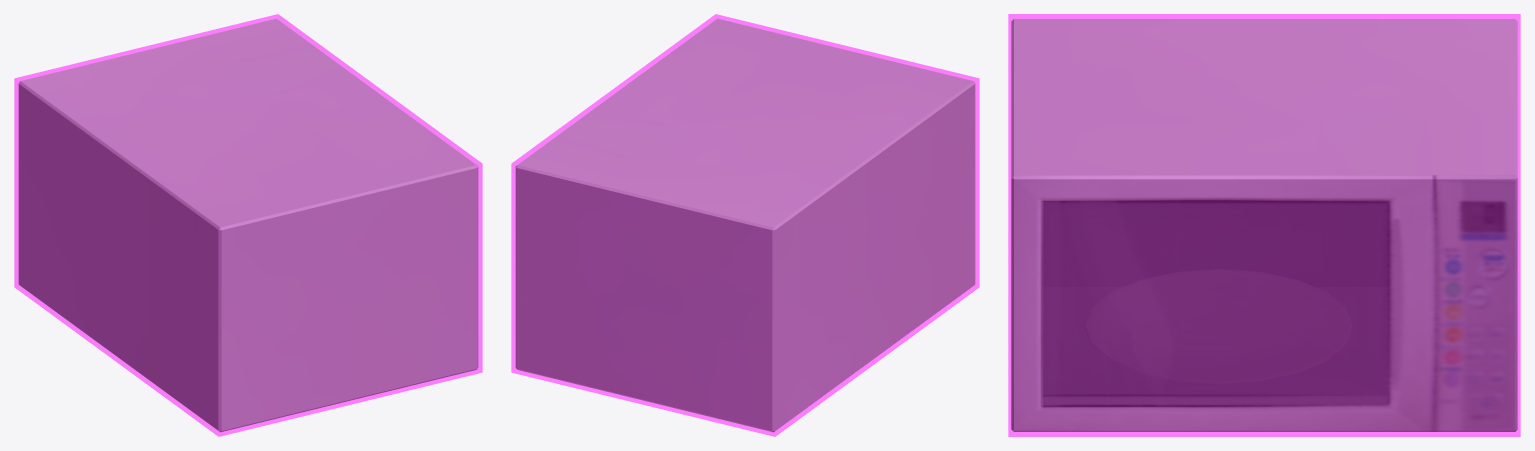
Rendered from ovenrange_B.fbx.
3 views of the same model, side by side, from view 1: azimuth 30°, elevation 25°; view 2: azimuth 150°, elevation 25°; view 3: azimuth 270°, elevation 25° (orthographic). The views are drawn at different scales.
Parts seen in each view (by area): view 1: ovenrange_B_boundingBox, hontai, door; view 2: ovenrange_B_boundingBox, hontai, door; view 3: ovenrange_B_boundingBox, door, hontai.
Boxes of the visible parts, x1,y1,x2,y2 form: ovenrange_B_boundingBox: [14, 14, 482, 436]; hontai: [18, 18, 464, 432]; door: [295, 42, 478, 372]; ovenrange_B_boundingBox: [511, 14, 979, 436]; hontai: [515, 22, 975, 432]; door: [550, 18, 730, 144]; ovenrange_B_boundingBox: [1008, 14, 1520, 436]; door: [1011, 167, 1434, 431]; hontai: [1011, 19, 1517, 431].
Size of the model in its own units: 33.95 by 25.69 by 45.56.
Materials: 4 (2 with a texture image).
